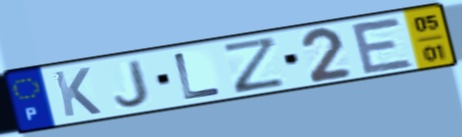2: (299, 25, 357, 86)
E: (347, 15, 418, 76)
J: (112, 57, 152, 109)
K: (50, 65, 105, 119)
L: (171, 50, 225, 102)
Z: (220, 34, 289, 96)
